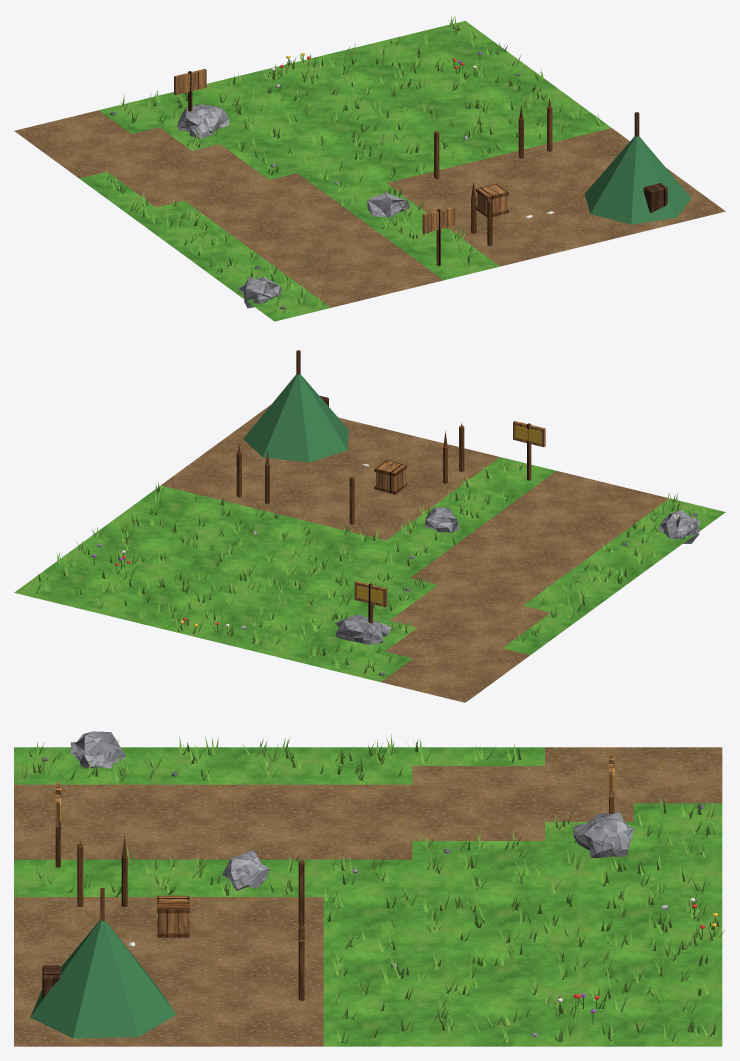
Rendered from chunk_2_4.glb.
3 views of the same model, one above another, from view 1: azimuth 30°, elevation 25°; view 2: azimuth 150°, elevation 25°; view 3: azimuth 270°, elevation 25° (orthographic). The views are drawn at different scales.
Visible parts, largest first — view 1: chunk_2_4; view 2: chunk_2_4; view 3: chunk_2_4.
Part boxes in pixels (x1,y1,x2,y2): chunk_2_4: (14, 15, 725, 321); chunk_2_4: (14, 350, 725, 702); chunk_2_4: (14, 731, 724, 1046).
Size of the model in its own units: 16.06 by 3.5 by 16.09.
Materials: 17 (9 with a texture image).
